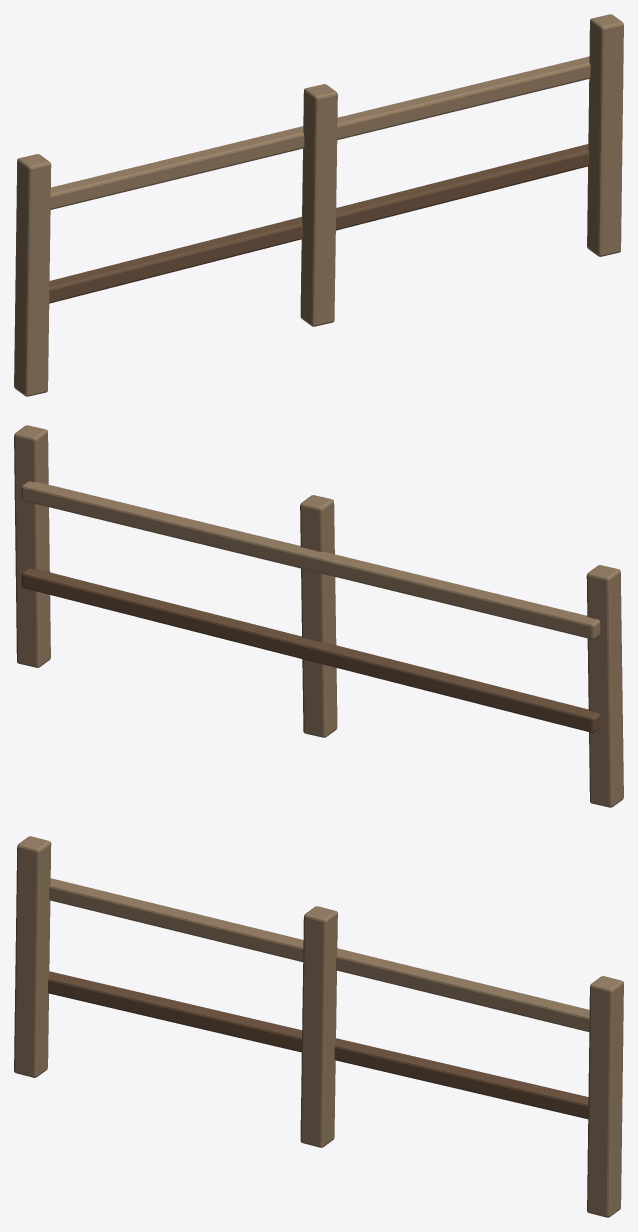
File: FenceSegment.fbx
3 views of the same model, one above another, from view 1: azimuth 30°, elevation 25°; view 2: azimuth 150°, elevation 25°; view 3: azimuth 330°, elevation 25° (orthographic).
Parts seen in each view (by area): view 1: FenceSegment; view 2: FenceSegment; view 3: FenceSegment.
Boxes of the visible parts, left/top/right/bottom form: FenceSegment: left=14, top=14, right=623, bottom=396; FenceSegment: left=14, top=425, right=623, bottom=807; FenceSegment: left=14, top=836, right=623, bottom=1217.
Bounding box in the file's own units: 3.14 × 1.15 × 0.18.
